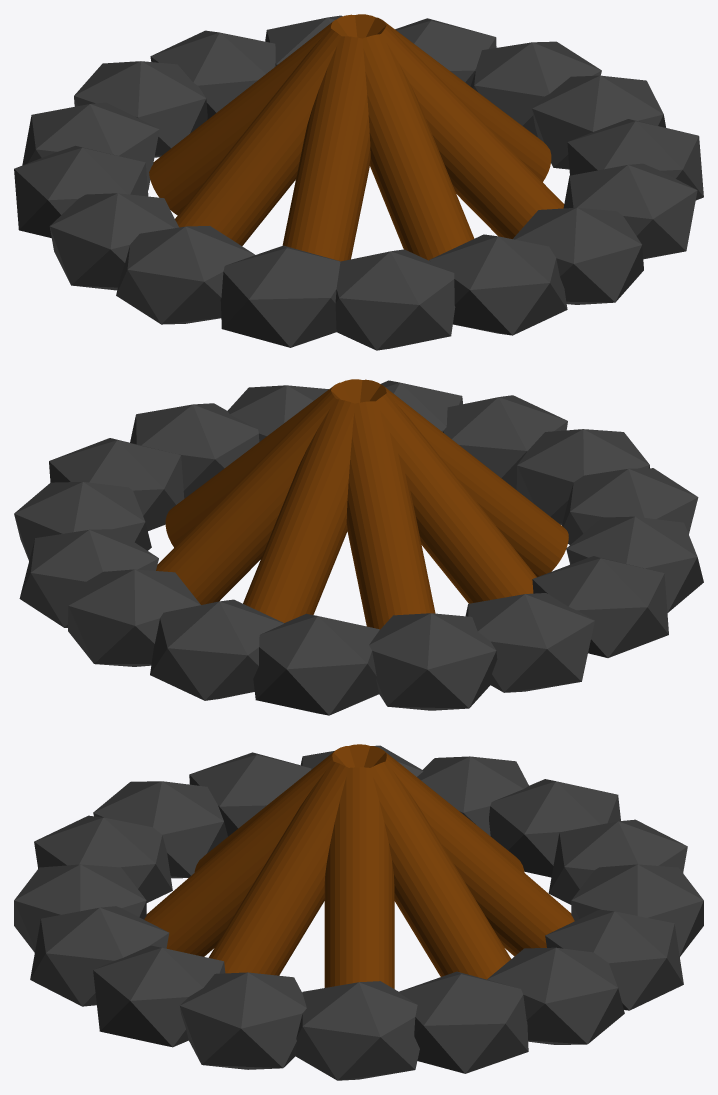
File: campfire.glb
The picture shows the model from 3 angles, top to bottom: view 1: azimuth 30°, elevation 25°; view 2: azimuth 150°, elevation 25°; view 3: azimuth 270°, elevation 25°; orthographic projection.
Parts seen in each view (by area): view 1: Icosphere.001, Cylinder.006; view 2: Icosphere.001, Cylinder.006; view 3: Icosphere.001, Cylinder.006.
Boxes of the visible parts, x1,y1,x2,y2 form: Icosphere.001: [14, 15, 703, 350]; Cylinder.006: [149, 14, 564, 261]; Icosphere.001: [14, 380, 703, 715]; Cylinder.006: [156, 379, 568, 629]; Icosphere.001: [14, 745, 703, 1080]; Cylinder.006: [144, 744, 574, 988].
Size of the model in its own units: 3.55 by 1.19 by 3.55.
